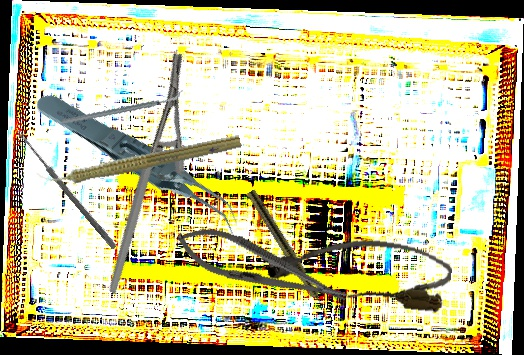Cannula: (265, 225, 455, 315)
Chopper: (61, 67, 183, 148)
Handpiece: (35, 126, 243, 195), (244, 188, 335, 322)
Needle Holder: (39, 49, 250, 295), (170, 215, 354, 321)
Surgical Spoon: (15, 129, 118, 250)
Tissue Forceps: (32, 57, 246, 270)
